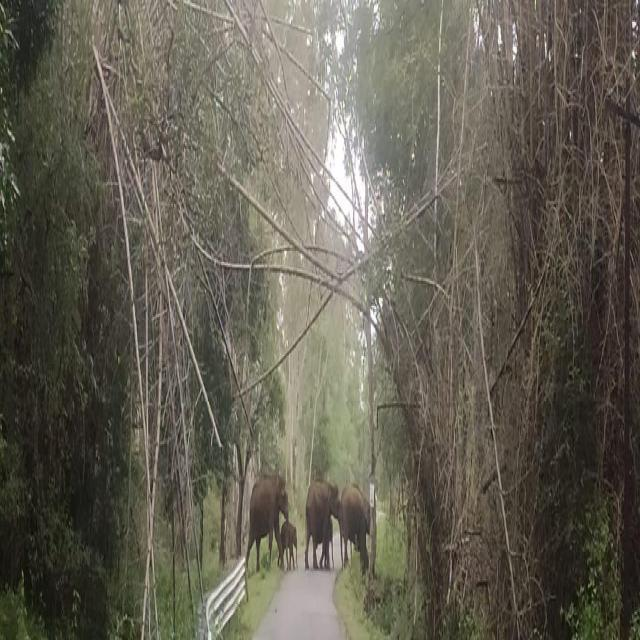Elephant: (304, 474, 374, 571), (245, 470, 299, 572), (338, 483, 371, 570), (278, 511, 298, 565)
